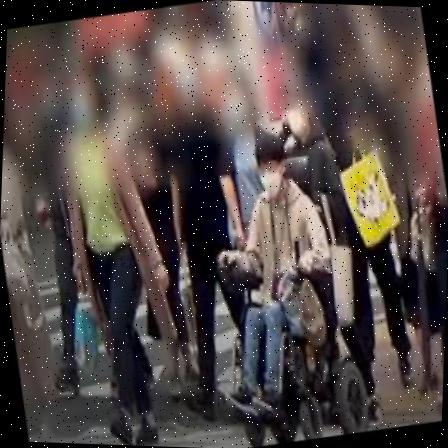wheel: (179, 121, 383, 447)
